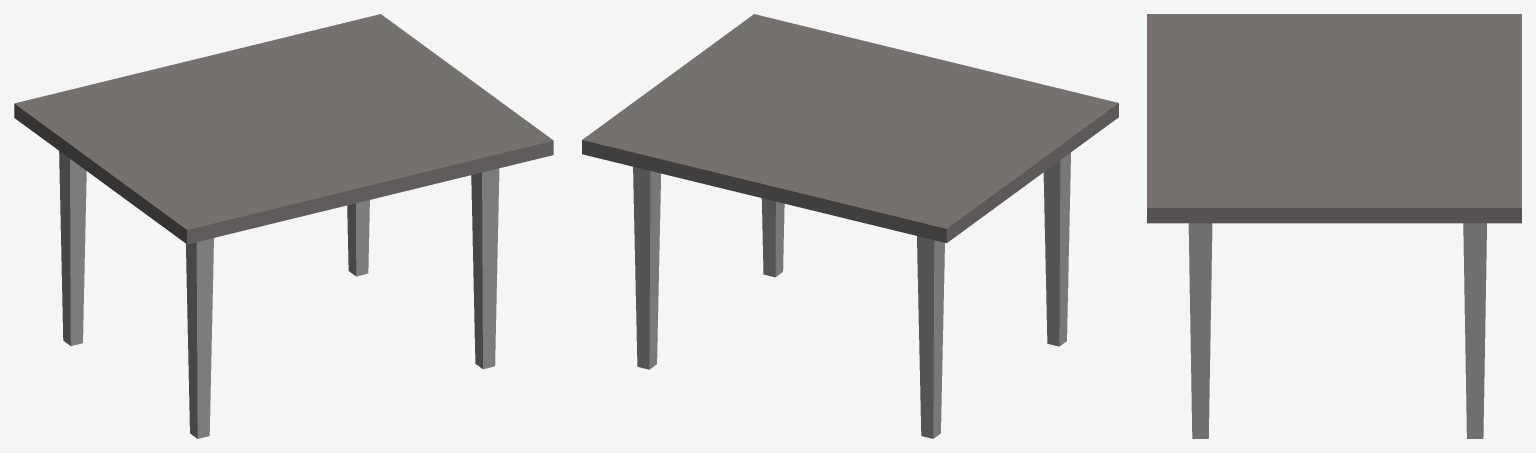
Rendered from SM_Table_02.fbx.
3 renders of one model, left to right at view 1: azimuth 30°, elevation 25°; view 2: azimuth 150°, elevation 25°; view 3: azimuth 270°, elevation 25°, orthographic. The views are drawn at different scales.
Visible parts, largest first — view 1: SM_Table_02; view 2: SM_Table_02; view 3: SM_Table_02.
Part boxes in pixels (bbox=[...]): SM_Table_02: bbox=[14, 14, 553, 438]; SM_Table_02: bbox=[582, 14, 1118, 438]; SM_Table_02: bbox=[1147, 14, 1521, 438].
Bounding box in the file's own units: 166 × 101 × 136.
Materials: 1 (1 with a texture image).
